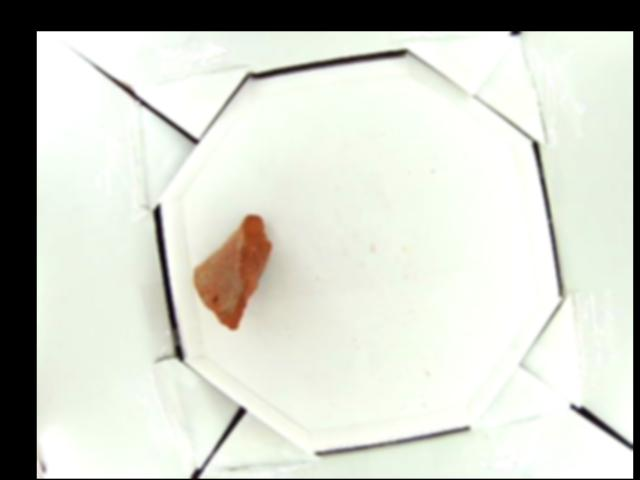Brisk: (193, 213, 271, 328)
